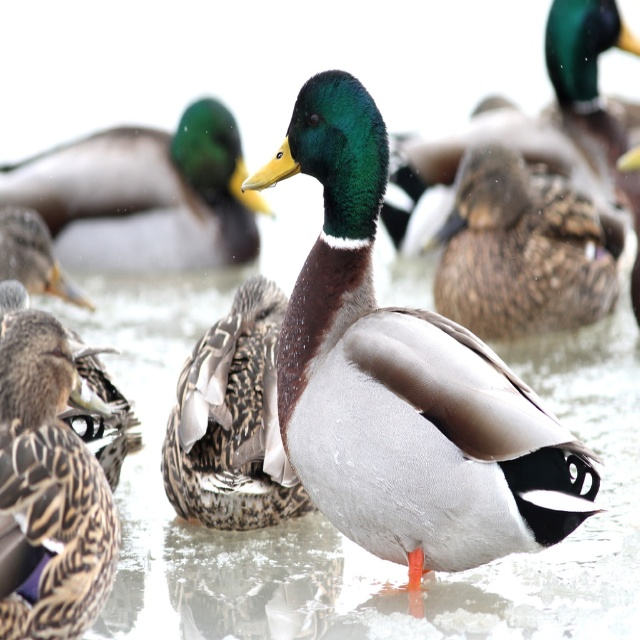Duck: (237, 69, 608, 618), (377, 0, 640, 254), (6, 97, 286, 294), (408, 135, 630, 371), (154, 259, 331, 554), (0, 302, 144, 639)
